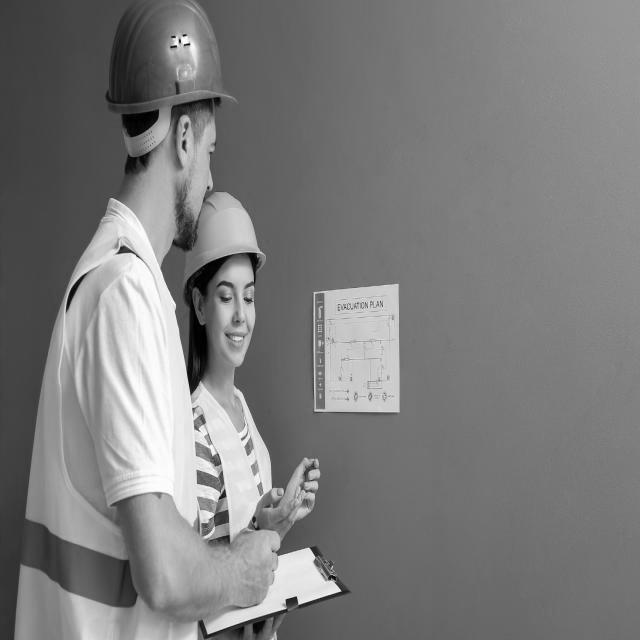construction helmet: (104, 0, 237, 120), (183, 191, 267, 290)
